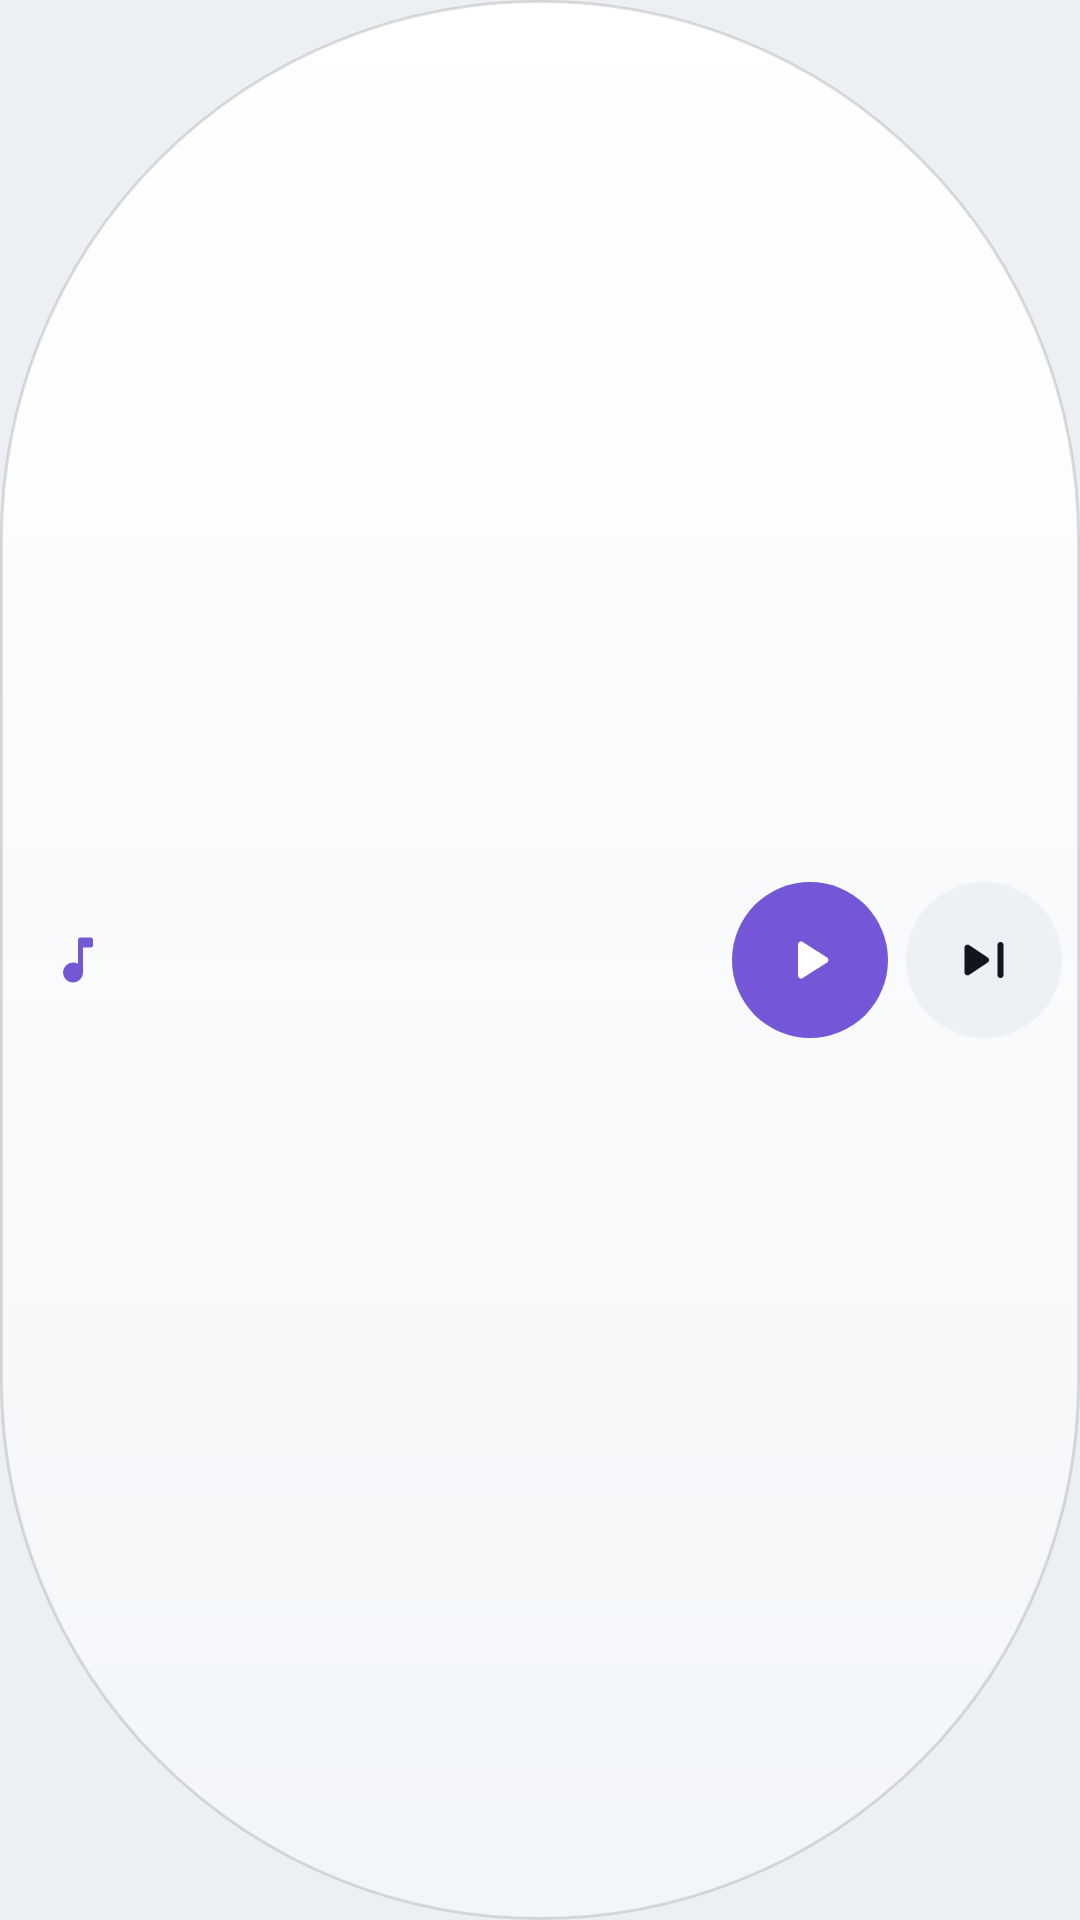

Icon bounding boxes for this 1080*1920 phone screenshot, format (x1, y1, x2, y2):
music note: (63, 937, 93, 983)
Next track: (964, 942, 1004, 978)
Play or pause: (732, 882, 888, 1038)
